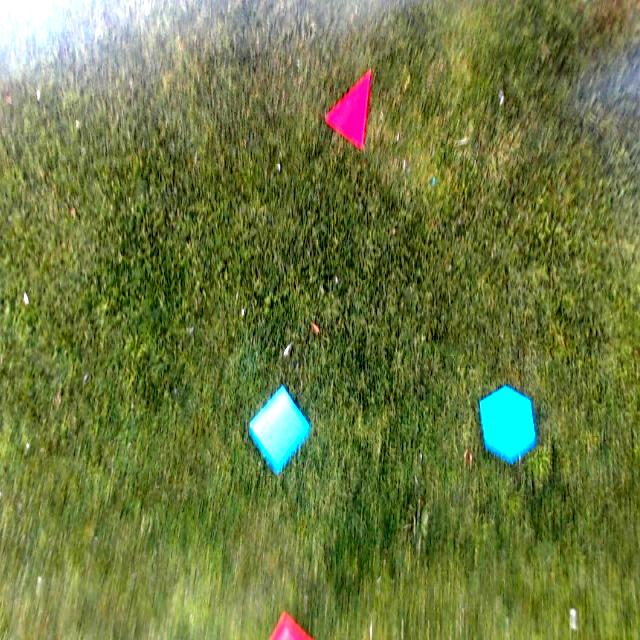blue_hexagon: (479, 384, 536, 457)
blue_square: (248, 385, 310, 471)
red_triangle: (323, 70, 372, 149)
